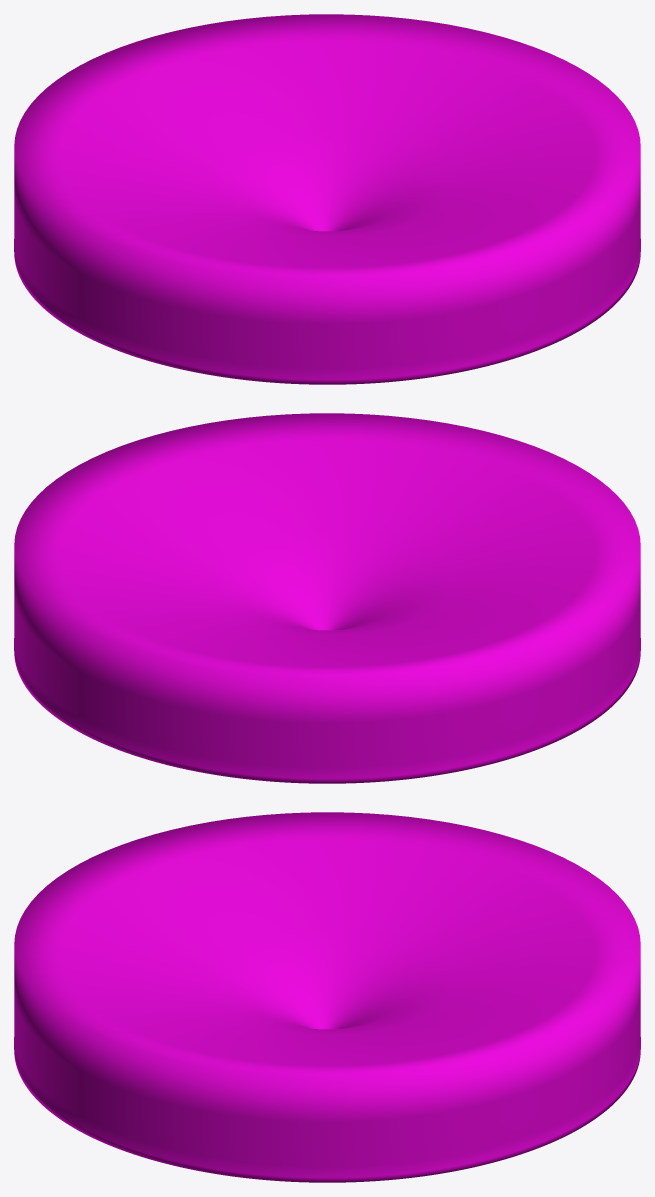
The model's file is solido.fbx.
3 views of the same model, one above another, from view 1: azimuth 30°, elevation 25°; view 2: azimuth 150°, elevation 25°; view 3: azimuth 270°, elevation 25° (orthographic).
Visible parts, largest first — view 1: y_raiz_de_x_solido_ejey:solido; view 2: y_raiz_de_x_solido_ejey:solido; view 3: y_raiz_de_x_solido_ejey:solido.
Part boxes in pixels (<box>): y_raiz_de_x_solido_ejey:solido: <box>14,14,640,384</box>; y_raiz_de_x_solido_ejey:solido: <box>14,413,640,783</box>; y_raiz_de_x_solido_ejey:solido: <box>14,812,640,1182</box>.
Size of the model in its own units: 26.63 by 5.01 by 26.63.
